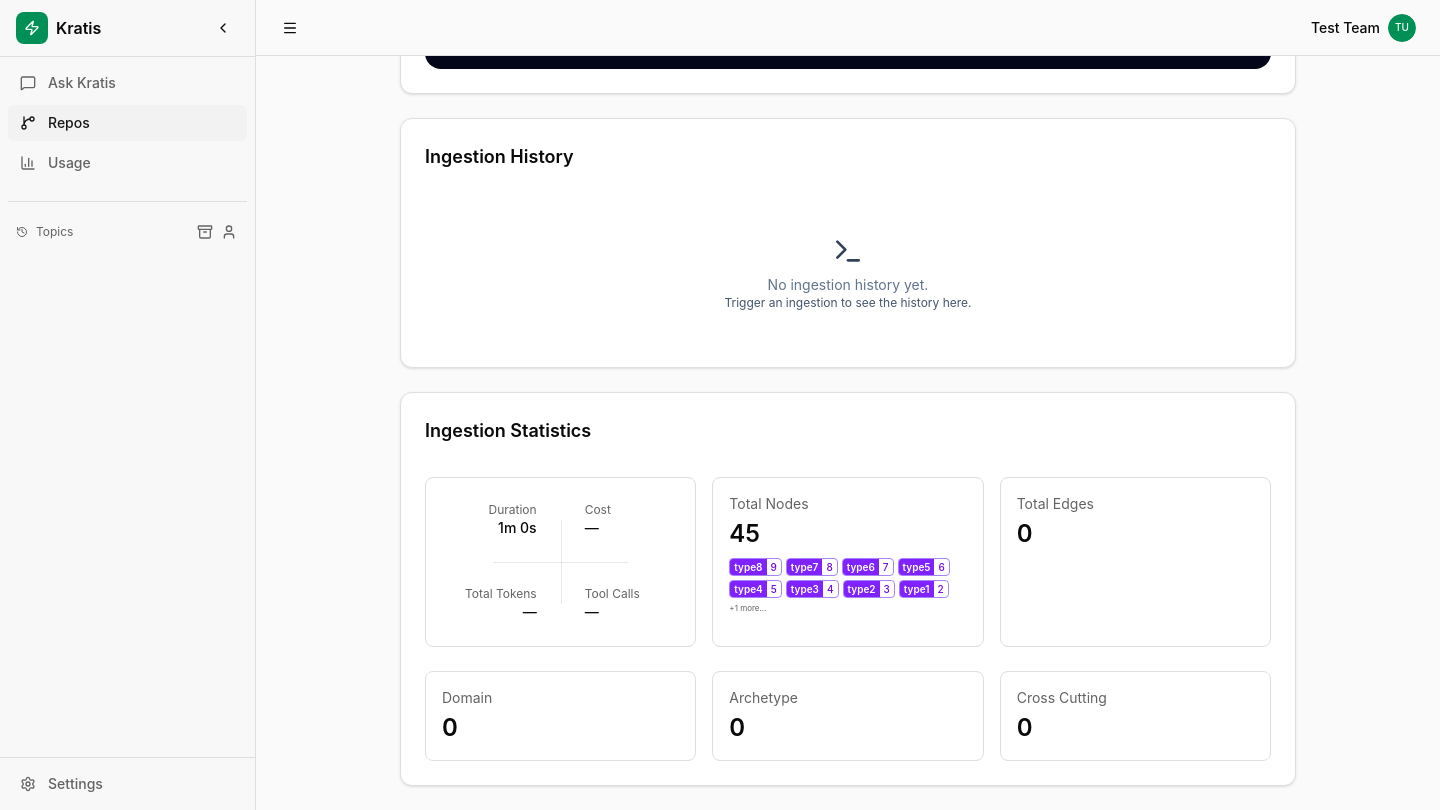
Test: Repository Drilldown - Dimension Categories & Wiki Pages › expands and collapses the node type tag cloud when more than 8 node types exist
This screenshot has width=1440, height=810.
(page scrolled)
Expected: the text "type8" is shown, [730, 559, 766, 575]
Expected: the text "type0" is not shown
Step 1. Click the button "+1 more…" → (748,609), box [729, 602, 766, 615]
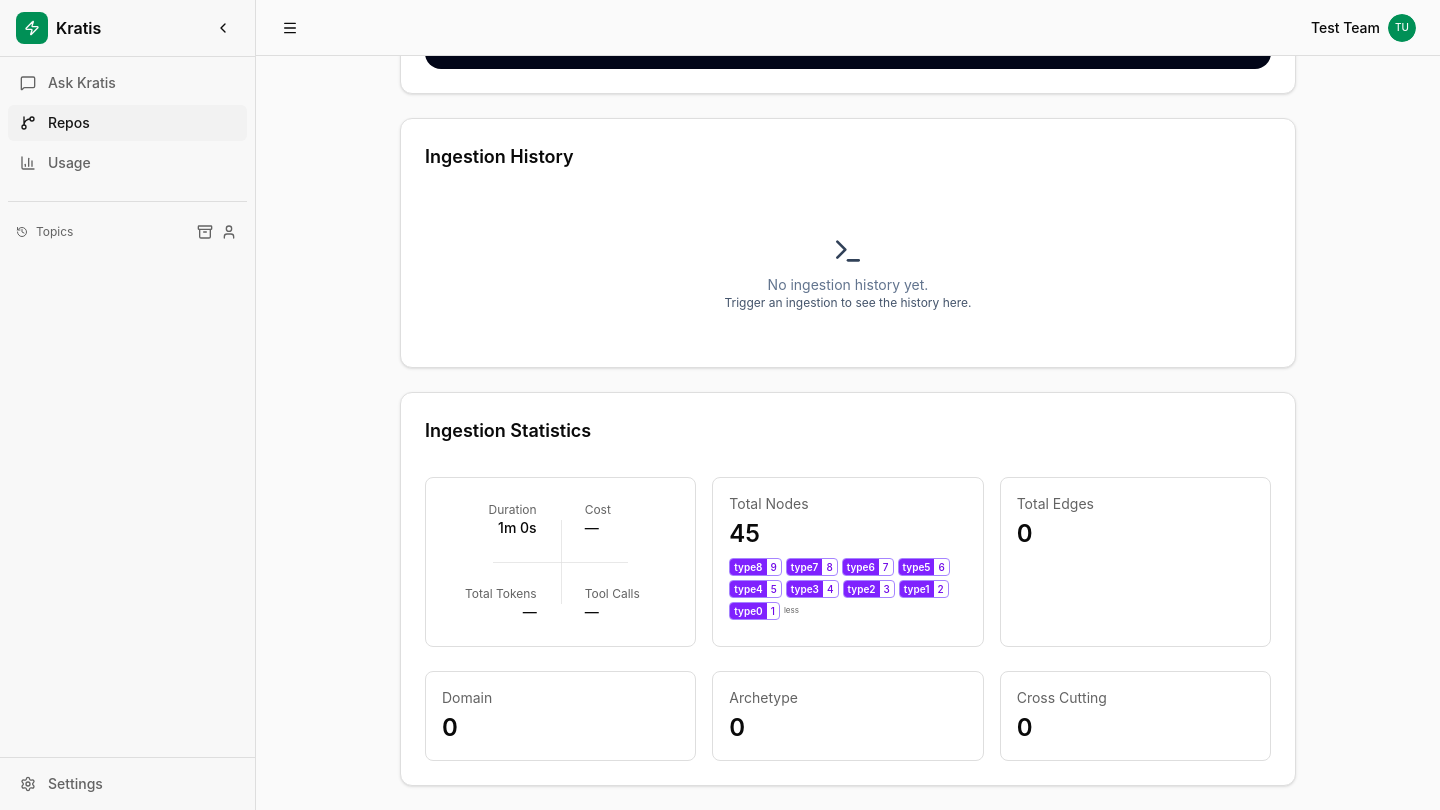
Now the text "type0" is shown, box [730, 603, 767, 619]
Step 2. Click the button "less" → (791,611), box [784, 602, 799, 620]
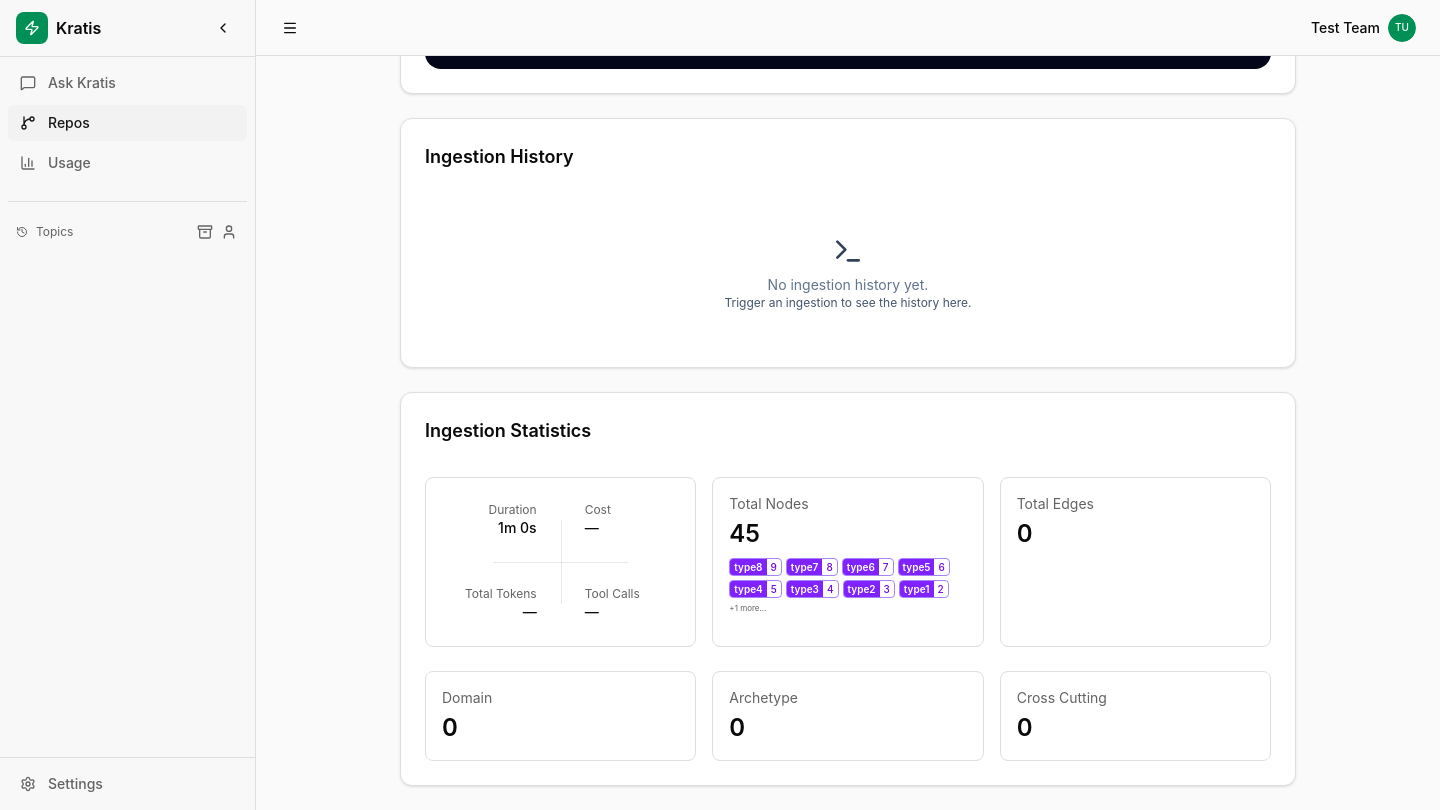
Now the text "type0" is gone
